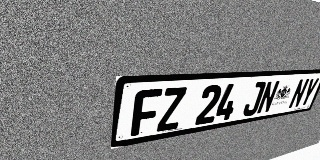2: (195, 84, 223, 125)
4: (214, 83, 241, 122)
F: (131, 88, 163, 137)
J: (241, 81, 267, 117)
N: (256, 80, 280, 115), (288, 78, 310, 109)
Y: (298, 78, 320, 107)
Z: (156, 87, 187, 132)
